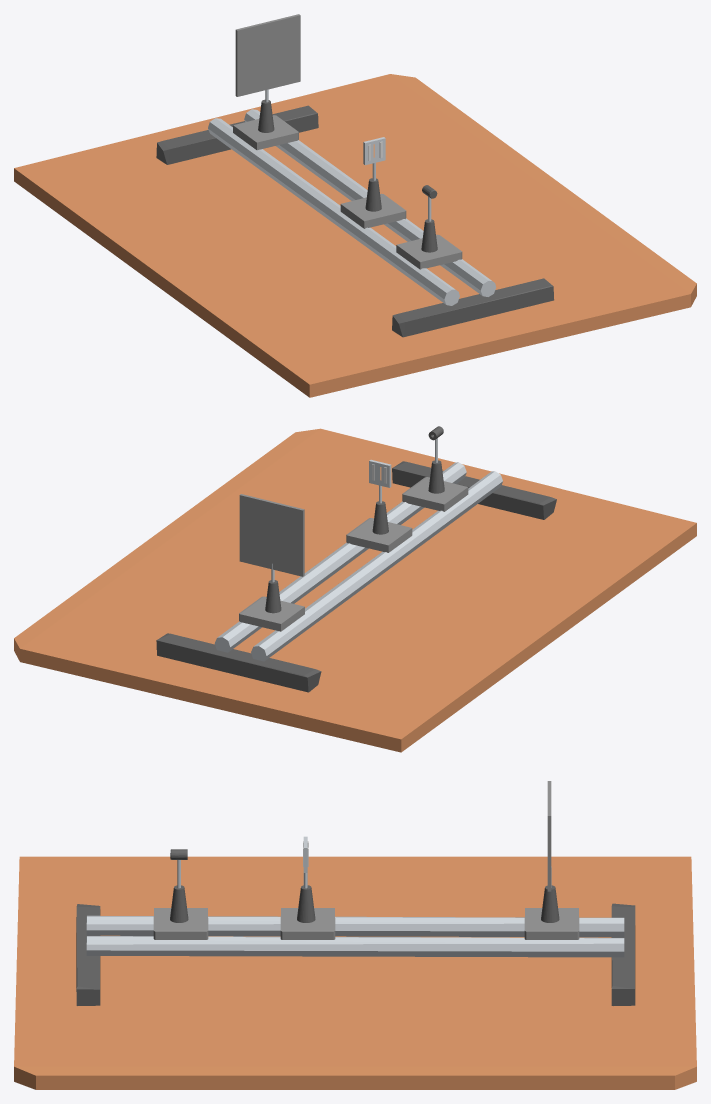
The model's file is phy1.fbx.
3 renders of one model, top to bottom at view 1: azimuth 30°, elevation 25°; view 2: azimuth 150°, elevation 25°; view 3: azimuth 270°, elevation 25°, orthographic. The views are drawn at different scales.
Parts seen in each view (by area): view 1: Cube.014, Cylinder.001, Cube.009, Cube.001, Cylinder, Cube, Cube.003, Cube.005, Cube.008; view 2: Cube.014, Cylinder.001, Cube.009, Cube, Cylinder, Cube.001, Cube.005, Cube.008, Cube.003; view 3: Cube.014, Cylinder, Cylinder.001, Cube, Cube.001, Cube.003, Cube.005, Cube.008, Cylinder.017, Cylinder.011, Cube.009, Cylinder.022.
Boxes of the visible parts, left/top/right/bottom form: Cube.014: left=14, top=74, right=696, bottom=397; Cylinder.001: left=208, top=118, right=459, bottom=305; Cube.009: left=235, top=14, right=300, bottom=96; Cube.001: left=392, top=278, right=554, bottom=337; Cylinder: left=244, top=109, right=496, bottom=296; Cube: left=156, top=105, right=318, bottom=164; Cube.003: left=396, top=234, right=462, bottom=269; Cube.005: left=340, top=193, right=406, bottom=228; Cube.008: left=233, top=115, right=298, bottom=150; Cube.014: left=14, top=428, right=696, bottom=752; Cylinder.001: left=251, top=471, right=502, bottom=661; Cube.009: left=239, top=494, right=304, bottom=576; Cube: left=156, top=633, right=321, bottom=692; Cylinder: left=214, top=462, right=466, bottom=652; Cube.001: left=392, top=461, right=556, bottom=519; Cube.005: left=346, top=518, right=412, bottom=552; Cube.008: left=239, top=596, right=304, bottom=631; Cube.003: left=402, top=477, right=468, bottom=511; Cube.014: left=14, top=856, right=696, bottom=1089; Cylinder: left=86, top=936, right=624, bottom=957; Cylinder.001: left=86, top=915, right=624, bottom=937; Cube: left=611, top=903, right=635, bottom=1005; Cube.001: left=76, top=904, right=100, bottom=1005; Cube.003: left=153, top=908, right=208, bottom=939; Cube.005: left=280, top=908, right=335, bottom=939; Cube.008: left=524, top=908, right=579, bottom=939; Cylinder.017: left=297, top=885, right=315, bottom=922; Cylinder.011: left=170, top=885, right=188, bottom=922; Cube.009: left=547, top=781, right=551, bottom=891; Cylinder.022: left=541, top=885, right=559, bottom=922.
Size of the model in its own units: 756 by 290 by 999.
